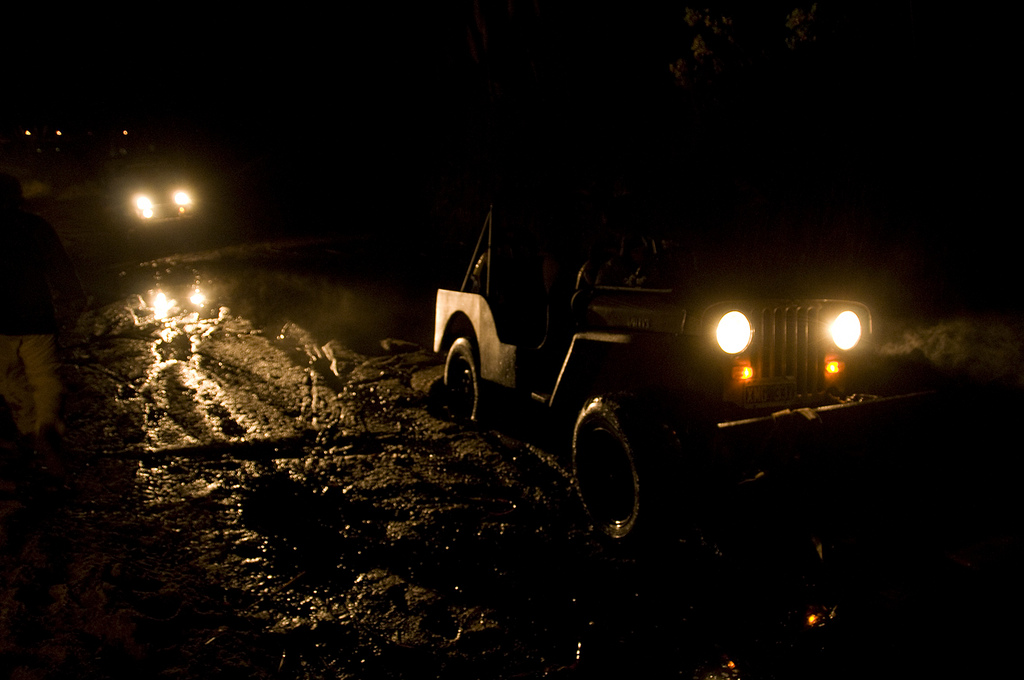car: (428, 168, 942, 565)
